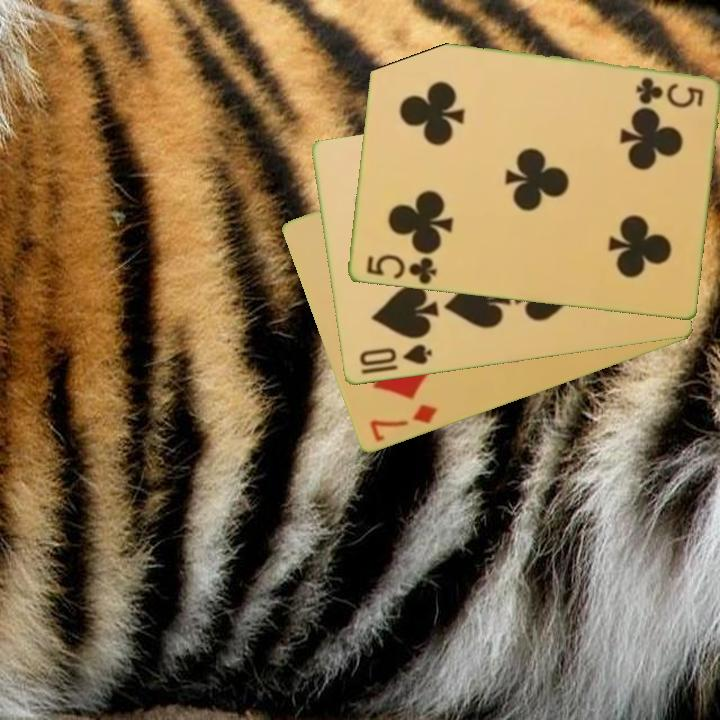10s: (355, 341, 435, 378)
5c: (363, 251, 439, 287), (632, 74, 706, 110)
7d: (366, 401, 441, 445)
